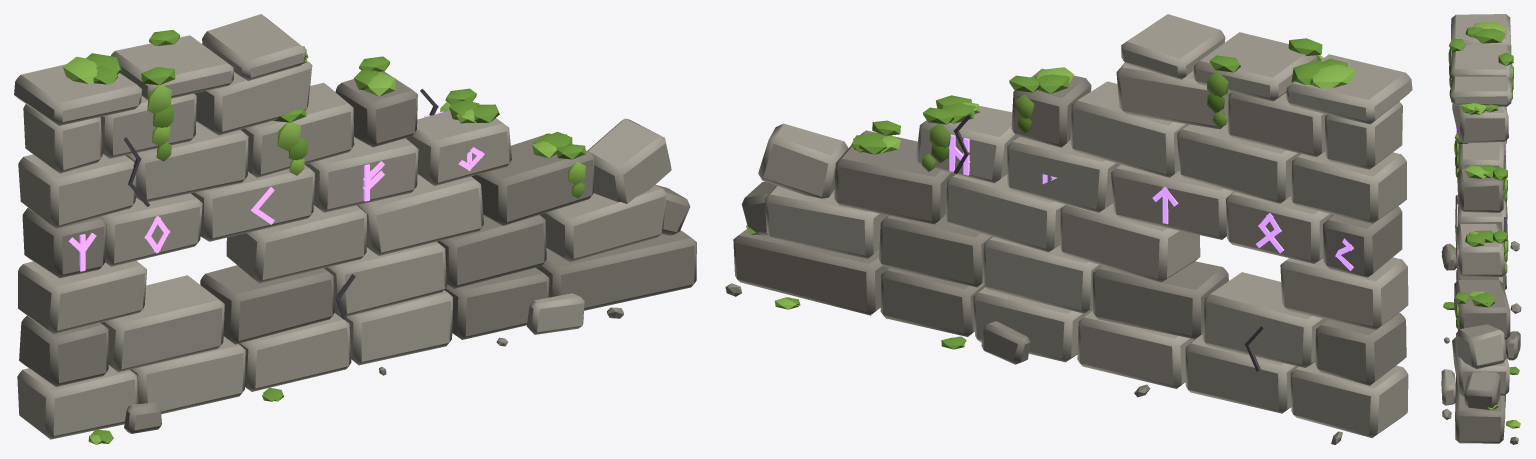
The model's file is ruin_wall.glb.
3 views of the same model, side by side, from view 1: azimuth 30°, elevation 25°; view 2: azimuth 150°, elevation 25°; view 3: azimuth 270°, elevation 25° (orthographic). The views are drawn at different scales.
Visible parts, largest first — view 1: RuinWall; view 2: RuinWall; view 3: RuinWall.
Boxes of the visible parts, x1=… form: RuinWall: x1=14, y1=14, x2=696, y2=444; RuinWall: x1=725, y1=14, x2=1412, y2=444; RuinWall: x1=1441, y1=14, x2=1521, y2=444.
Size of what is drawn, in the model's own units: 6 by 3.16 by 0.9728.
